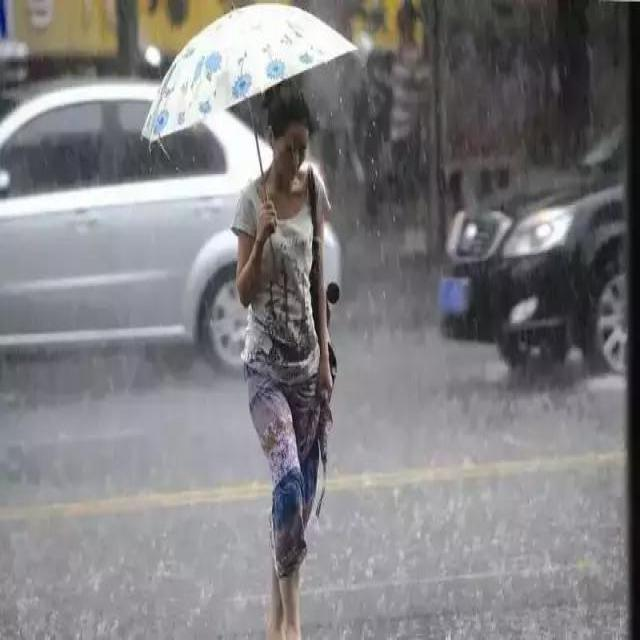car: (0, 76, 340, 371), (438, 113, 629, 376)
